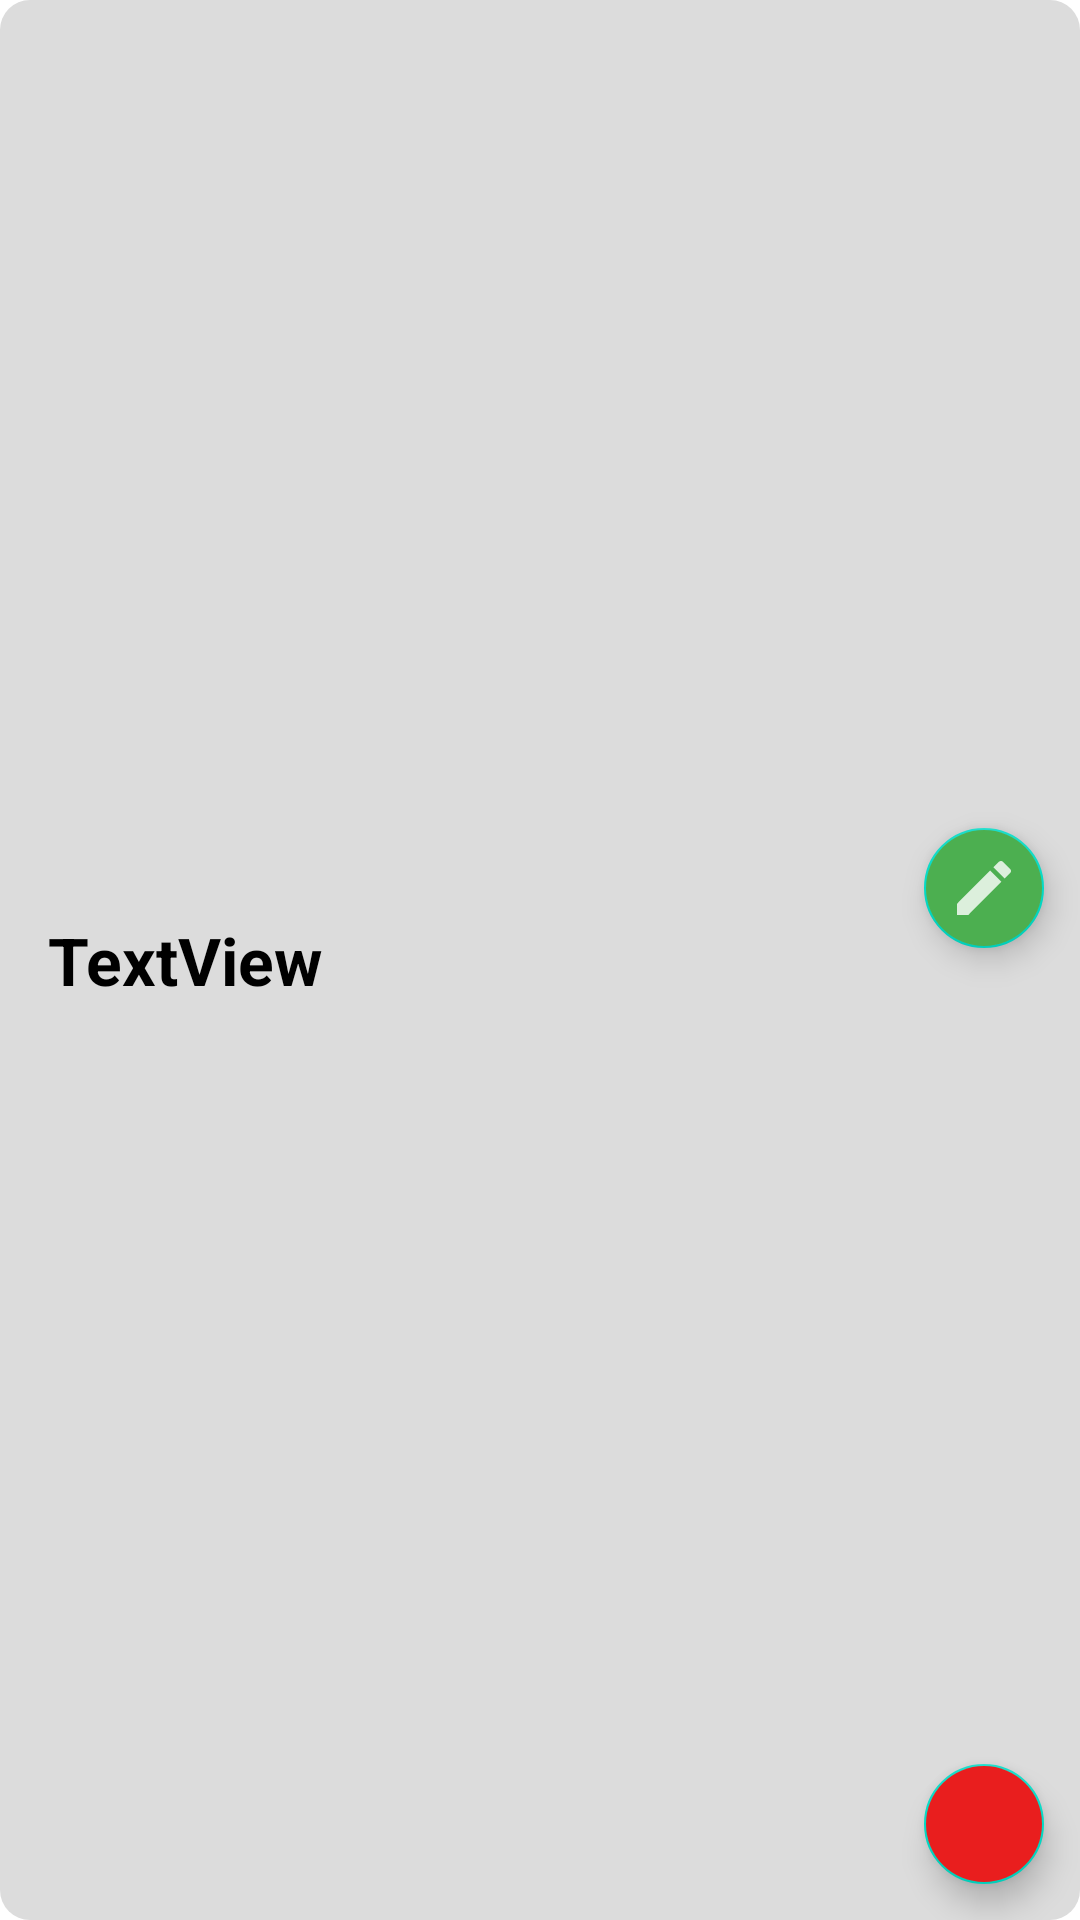

Locate icon controls on the screen. Image size 1080w x 1920h, boxes as {"left": x1, "top": y1, "right": x2, "bottom": y2}.
edit: {"left": 924, "top": 828, "right": 1045, "bottom": 952}
